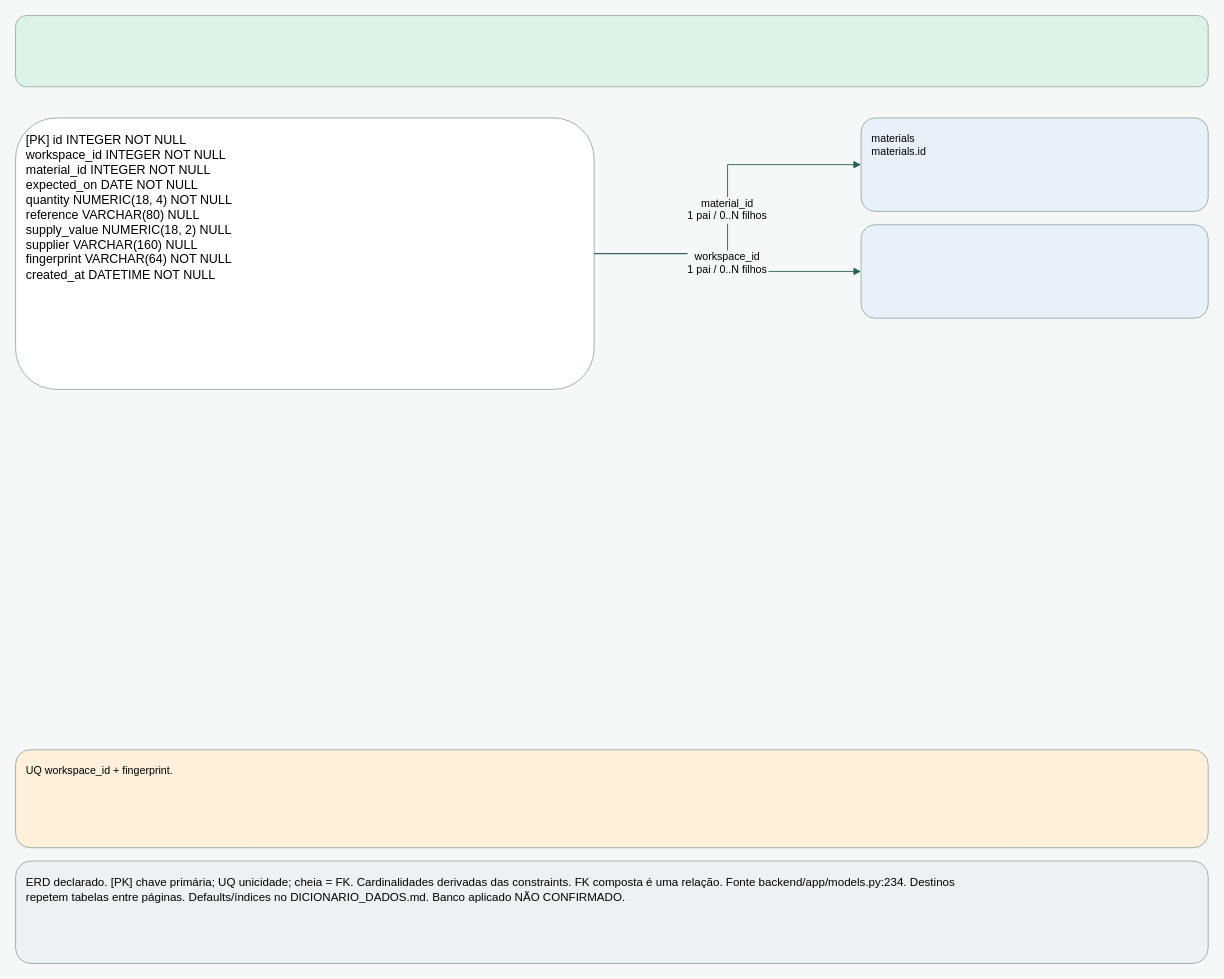
This 1224x979 diagram has some shape labels left out. The centre of each missing label's shape, as x and y in pixels:
"D09 | pipeline_orders | PipelineOrder V02 / 03-11-2026 / E64 | Inspeção estática" goes at pixel 611 51.
"workspaces workspaces.id" goes at pixel 1034 271.
